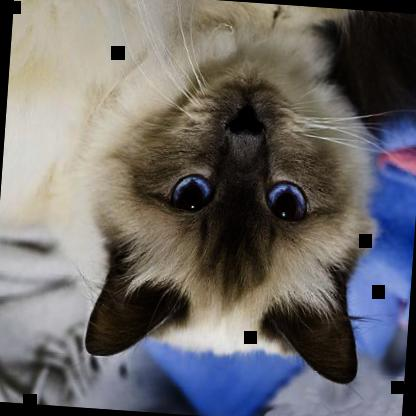cat: (0, 0, 386, 388)
